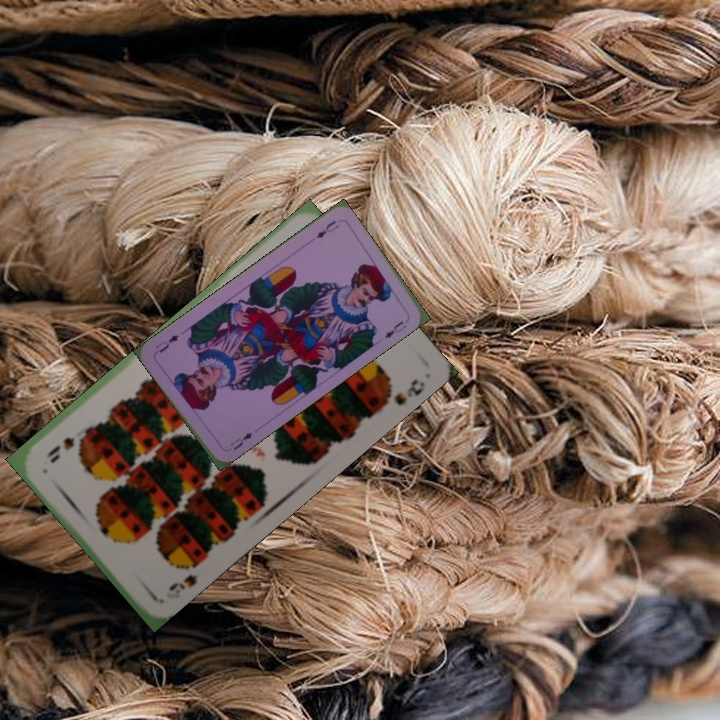EU: (312, 216, 342, 241), (226, 428, 255, 452)
S9: (164, 555, 204, 594)
